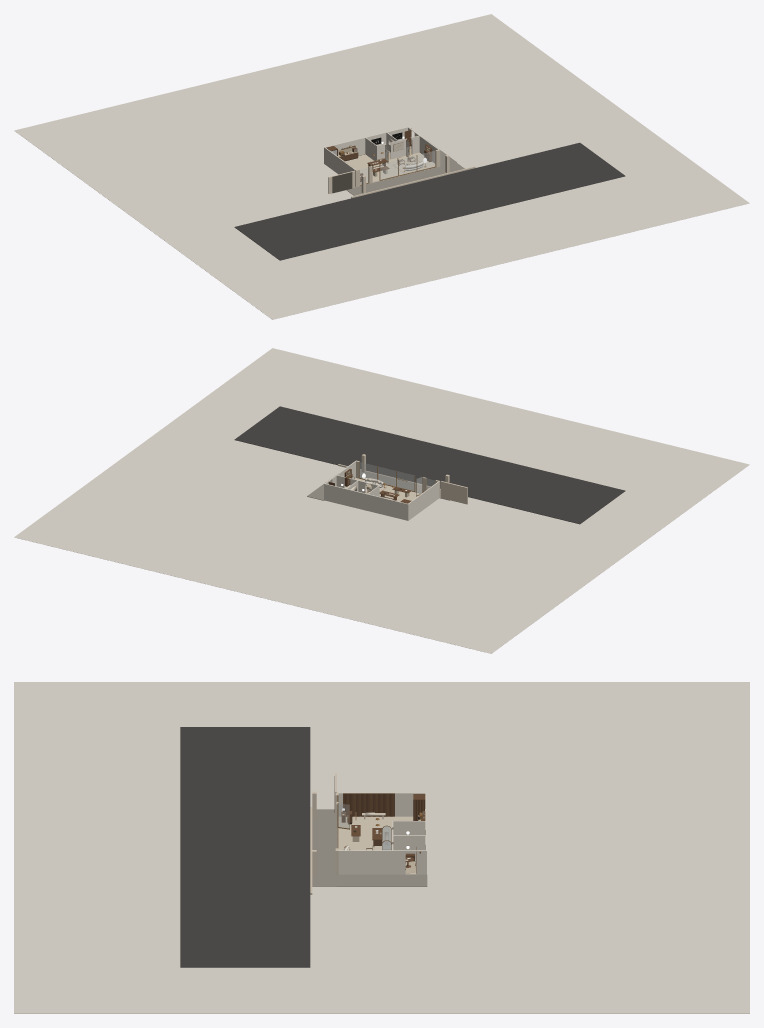
File: store-shophouse.glb
3 views of the same model, one above another, from view 1: azimuth 30°, elevation 25°; view 2: azimuth 150°, elevation 25°; view 3: azimuth 270°, elevation 25° (orthographic). The views are drawn at different scales.
Parts seen in each view (by area): view 1: ground, road, floor, walkway, wall-back, consult-front; view 2: ground, road, wall-back, wall-left, walkway; view 3: ground, road, walkway, wall-right-front, floor, lane, fluted-wall, wall-left, consult-B-side.
Part boxes in pixels (x1,y1,x2,y2): ground: (14, 14, 749, 319); road: (234, 142, 625, 260); floor: (345, 146, 435, 184); walkway: (346, 162, 464, 195); wall-back: (324, 127, 408, 163); consult-front: (376, 135, 419, 159); ground: (14, 348, 749, 653); road: (234, 406, 625, 524); wall-back: (324, 483, 408, 520); wall-left: (408, 481, 439, 519); walkway: (360, 470, 449, 500); ground: (14, 682, 749, 1013); road: (180, 727, 310, 967); walkway: (312, 809, 336, 886); wall-right-front: (338, 850, 405, 874); floor: (338, 816, 416, 874); lane: (336, 874, 427, 886); fluted-wall: (343, 793, 394, 816); wall-left: (338, 792, 425, 816); consult-B-side: (393, 835, 425, 859).
Bounding box in the file's own units: 72.5 × 2.83 × 68.
